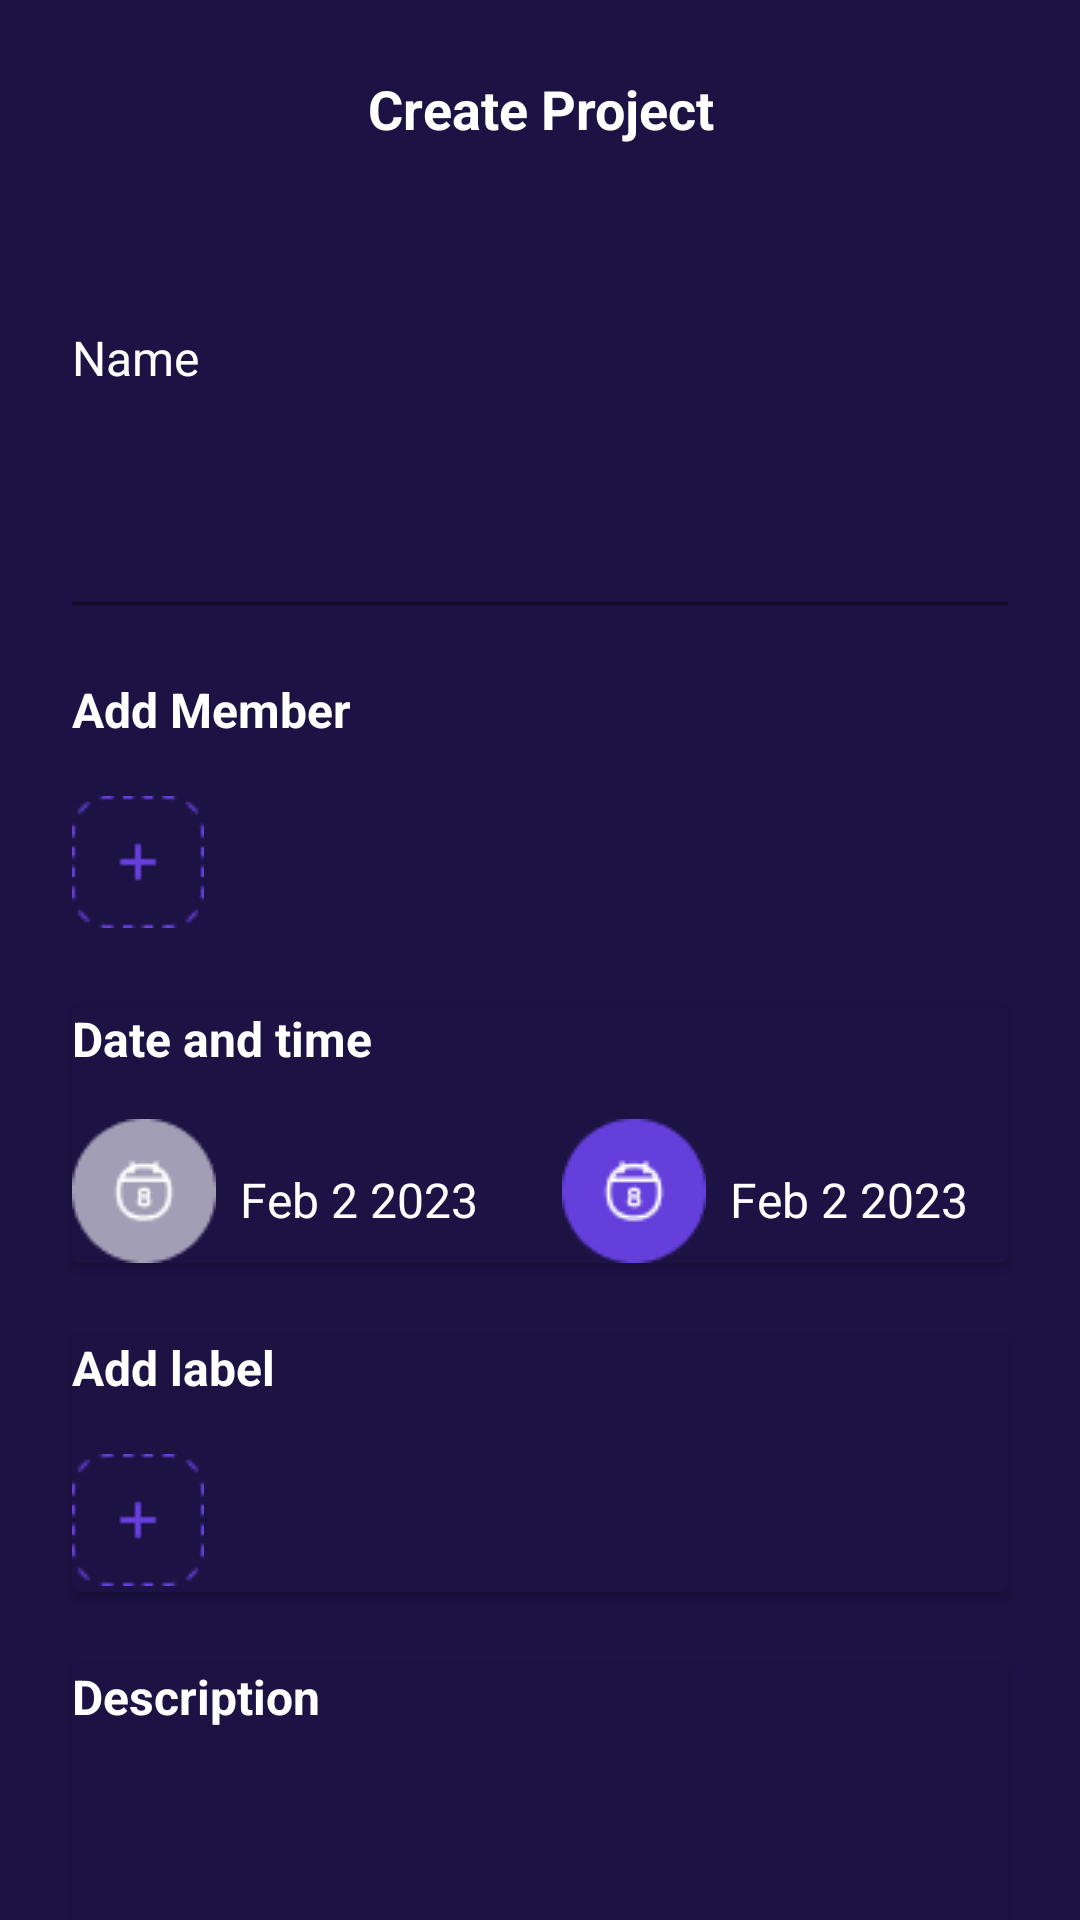

Icon bounding boxes for this 1080 x 1920 phone screenshot, format [x1, y1, x2, y2]:
figma locker: [72, 1119, 216, 1263]
figma locker finish: [562, 1119, 706, 1263]
figma plus: [72, 796, 204, 928], [72, 1454, 204, 1586]
